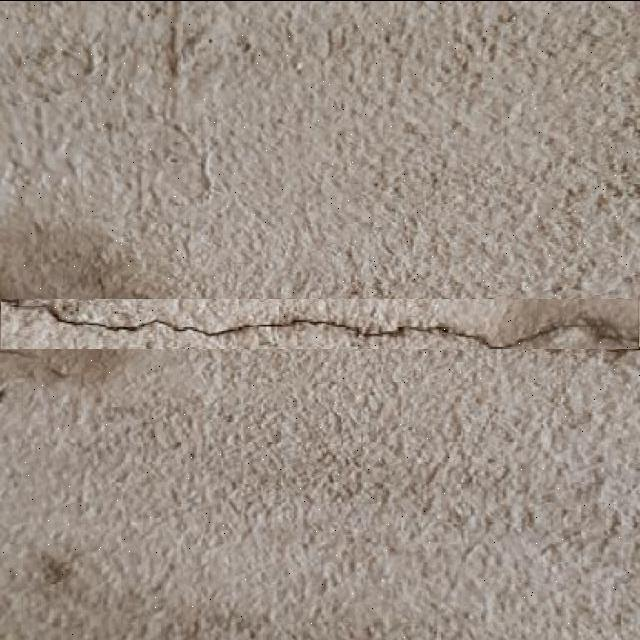crack: (0, 293, 639, 353), (0, 504, 196, 640), (14, 3, 196, 122), (0, 357, 157, 466), (1, 207, 152, 307), (156, 0, 217, 240), (520, 135, 640, 256), (313, 15, 377, 72), (355, 212, 419, 267), (179, 301, 279, 334), (246, 272, 320, 303), (139, 181, 158, 217)
dampens: (5, 296, 58, 311)
